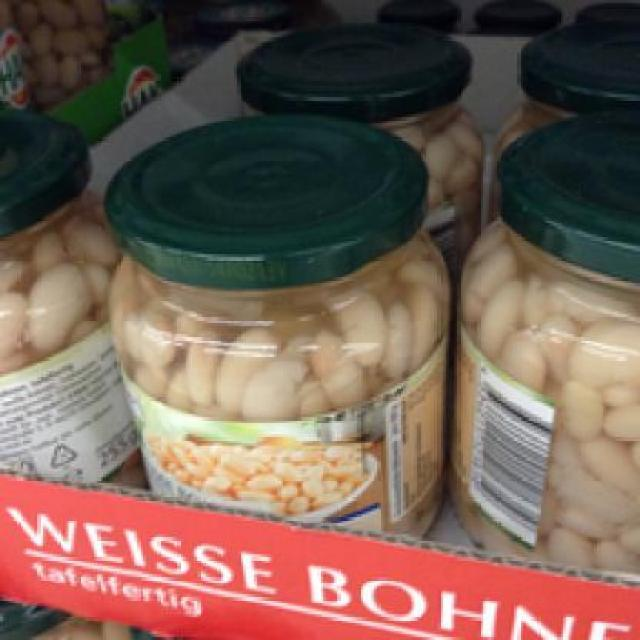Beans: (103, 114, 440, 540), (457, 108, 637, 574)
